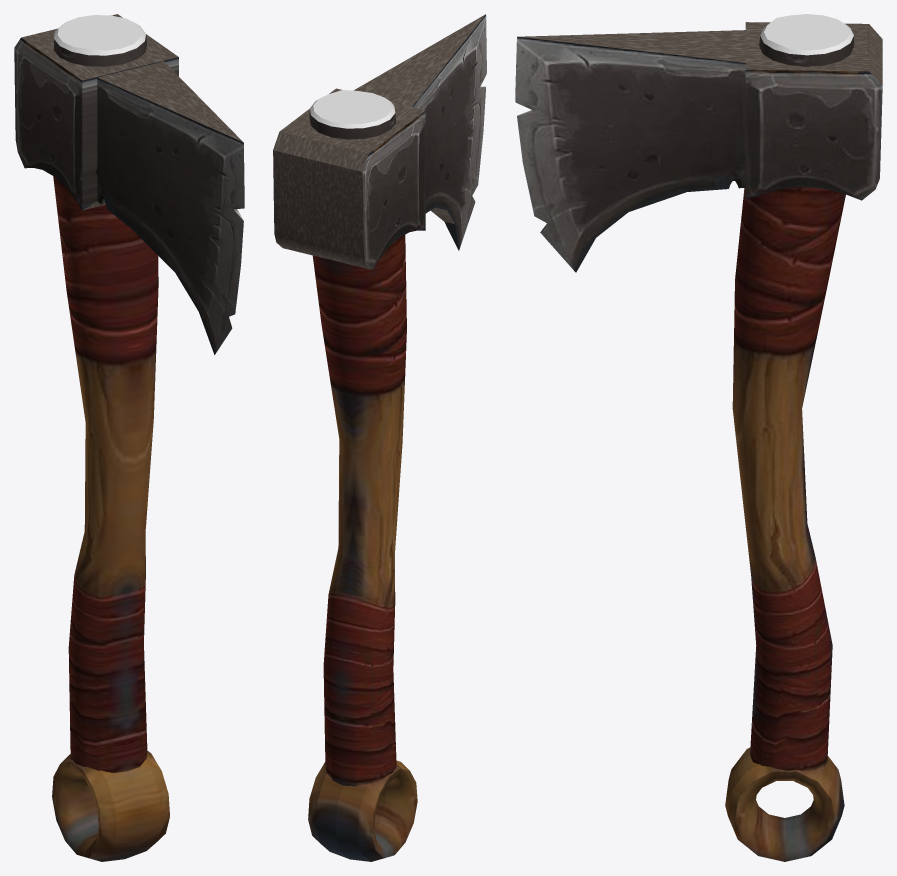
Rendered from axe.fbx.
The picture shows the model from 3 angles, left to right: view 1: azimuth 30°, elevation 25°; view 2: azimuth 150°, elevation 25°; view 3: azimuth 270°, elevation 25°; orthographic projection. The views are drawn at different scales.
Visible parts, largest first — view 1: Cylinder, Cube, Torus, Cube.002, Cylinder.001; view 2: Cylinder, Cube, Cube.002, Torus, Cylinder.001; view 3: Cube, Cylinder, Torus, Cube.002, Cylinder.001.
Part boxes in pixels (<box>): Cylinder: <box>53,34,158,773</box>; Cube: <box>14,38,244,354</box>; Torus: <box>52,751,169,861</box>; Cube.002: <box>21,14,243,210</box>; Cylinder.001: <box>54,15,145,55</box>; Cylinder: <box>309,110,406,786</box>; Cube: <box>362,14,486,269</box>; Cube.002: <box>273,14,485,269</box>; Torus: <box>308,760,417,861</box>; Cylinder.001: <box>310,90,395,128</box>; Cube: <box>515,36,882,272</box>; Cylinder: <box>732,36,853,771</box>; Torus: <box>725,747,844,861</box>; Cube.002: <box>518,22,882,85</box>; Cylinder.001: <box>760,14,853,55</box>.
Size of the model in its own units: 47.53 by 368 by 149.
5 materials, 4 textured.
